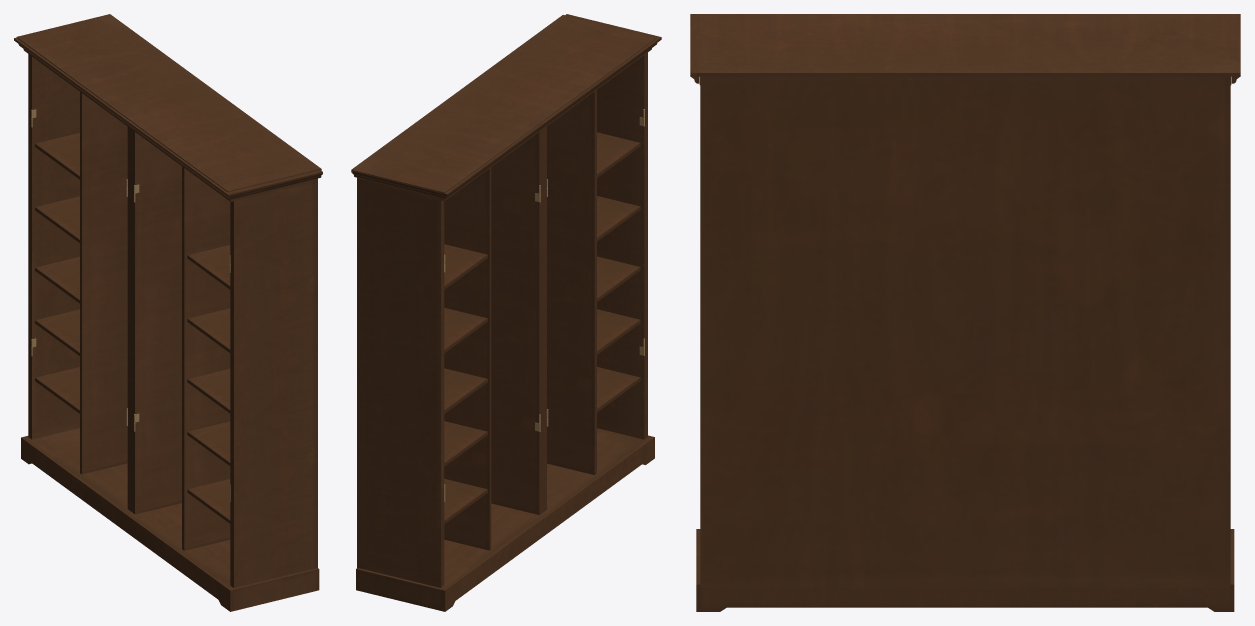
Rendered from SM_Cabinets_B1.fbx.
3 renders of one model, left to right at view 1: azimuth 30°, elevation 25°; view 2: azimuth 150°, elevation 25°; view 3: azimuth 270°, elevation 25°, orthographic. The views are drawn at different scales.
Visible parts, largest first — view 1: SM_Cabinets_B1; view 2: SM_Cabinets_B1; view 3: SM_Cabinets_B1.
Part boxes in pixels (x1,y1,x2,y2): SM_Cabinets_B1: (14, 14, 322, 611); SM_Cabinets_B1: (351, 14, 661, 611); SM_Cabinets_B1: (690, 14, 1240, 611).
Bounding box in the file's own units: 52.52 × 203 × 220.
2 materials, 2 textured.
